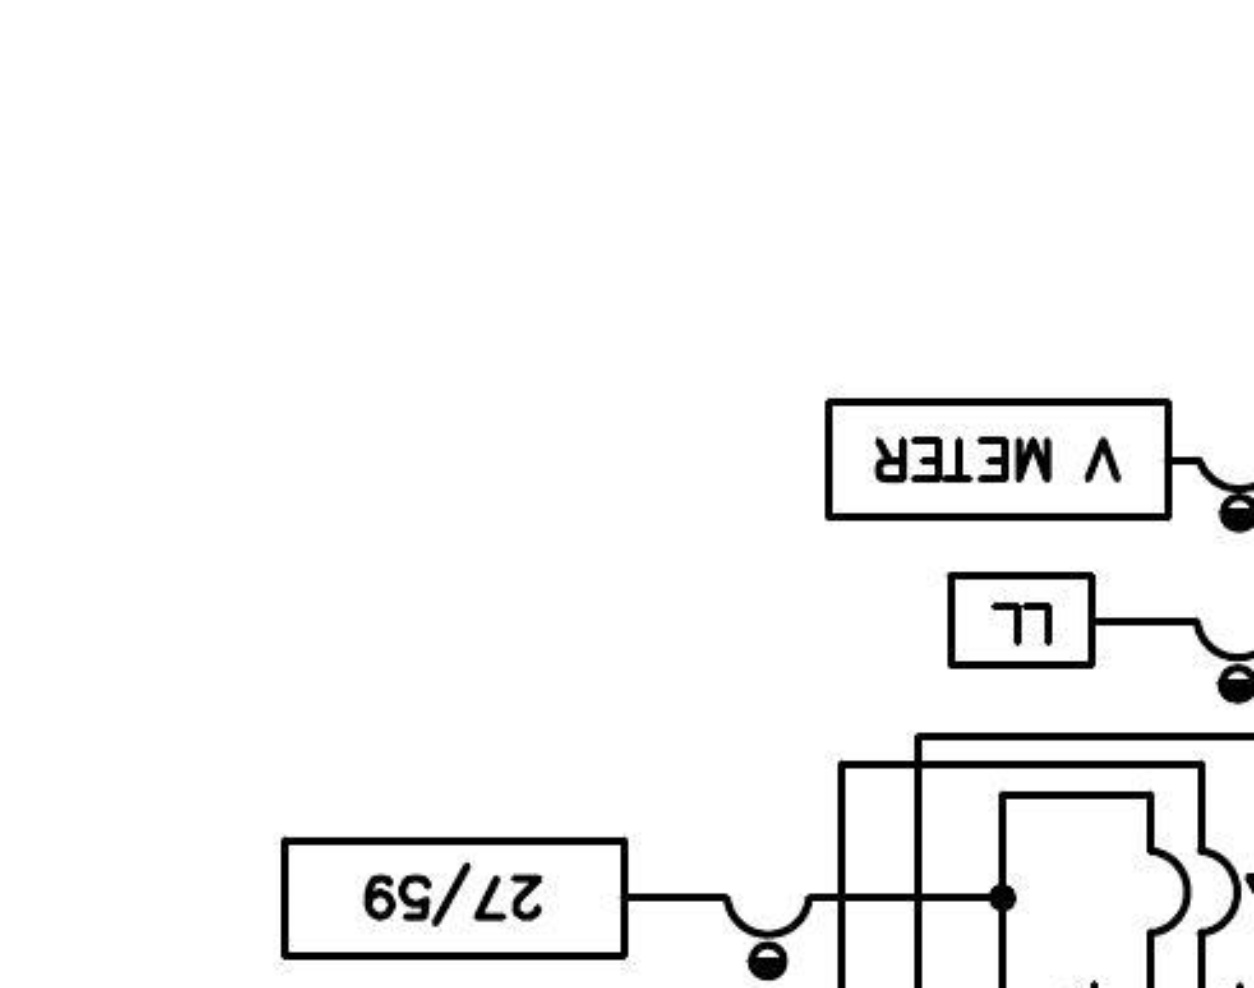LL: (945, 568, 1097, 672)
v_m_digital: (822, 396, 1176, 523)
